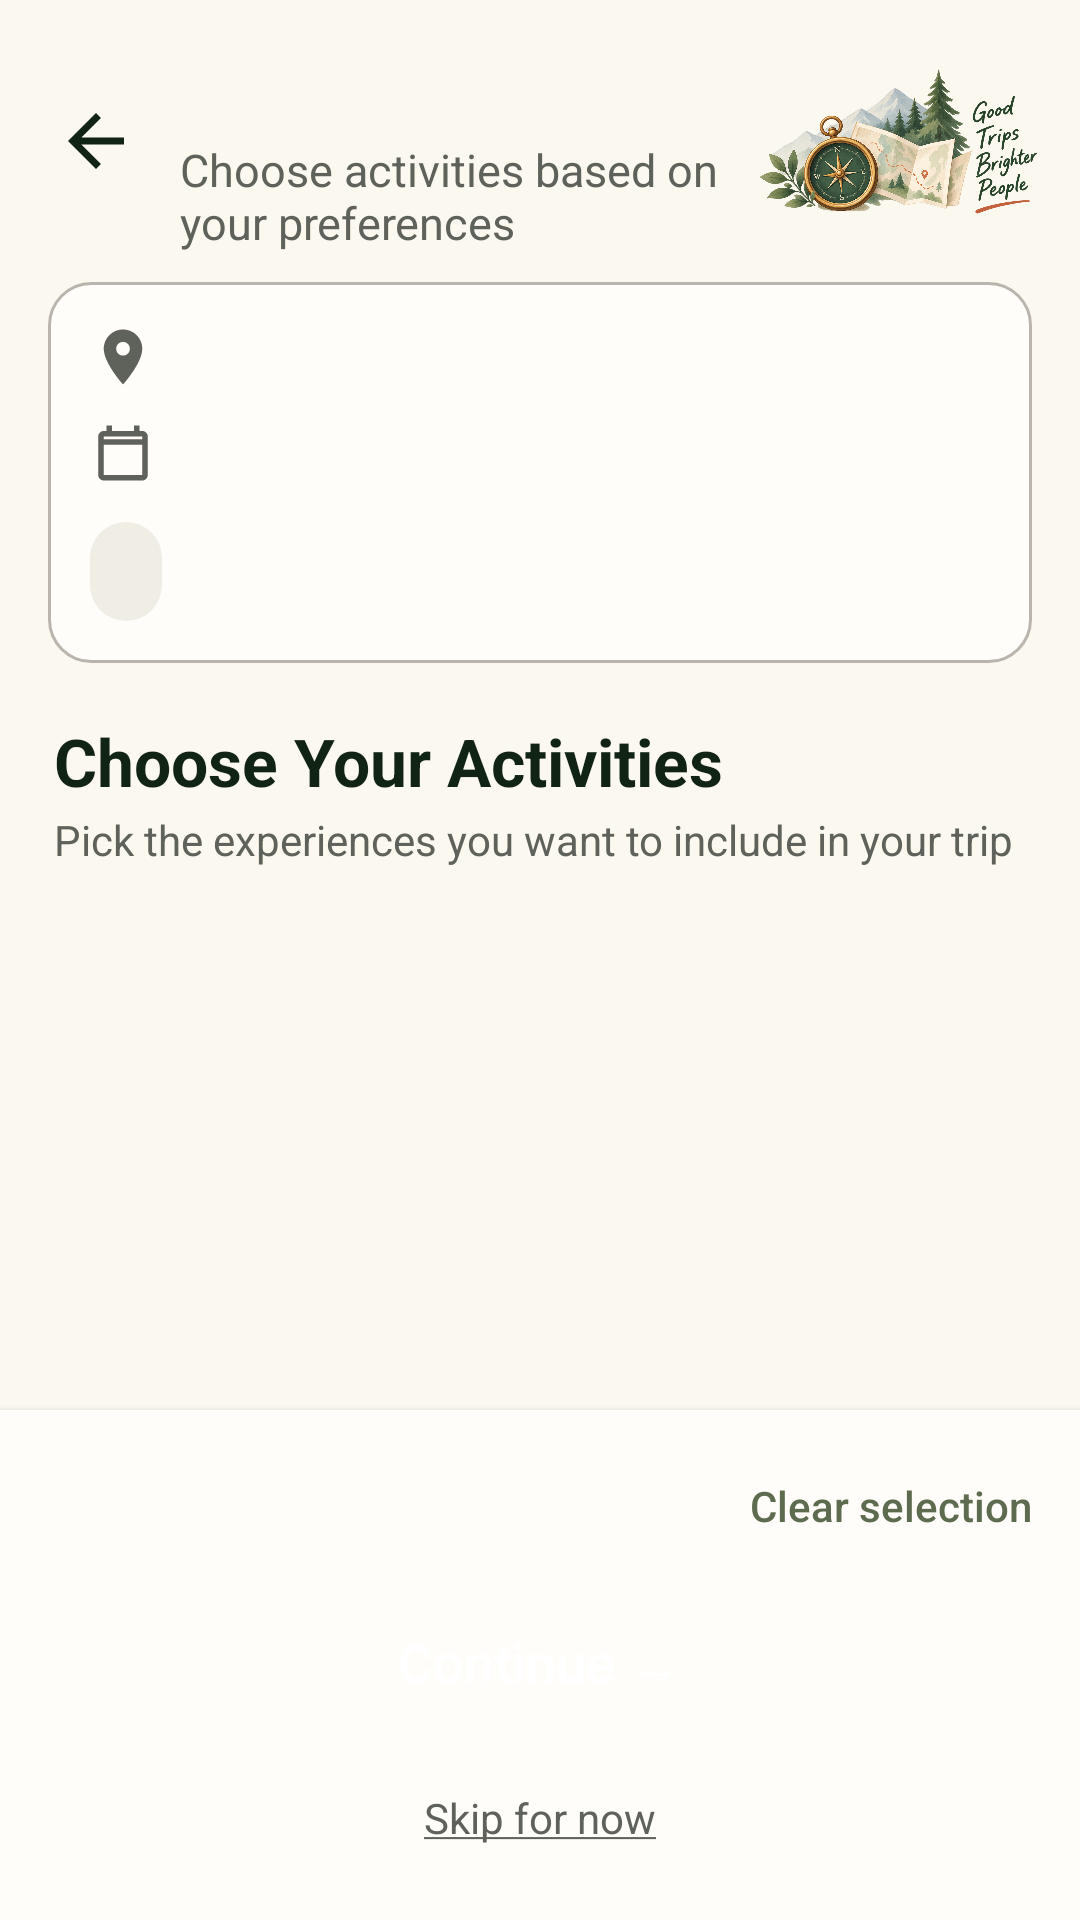

Icons on this 1080px x 1920px Android screen, each with its box as box(x1, y1, x2, y2):
Go back: box(68, 113, 124, 169)
